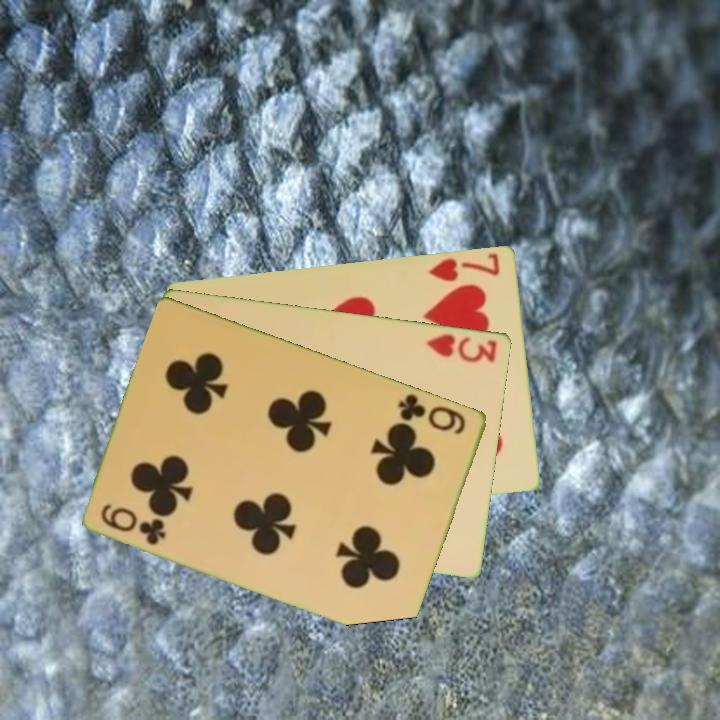3h: (423, 330, 500, 365)
6c: (395, 390, 469, 437), (98, 500, 169, 548)
7h: (425, 249, 503, 284)
